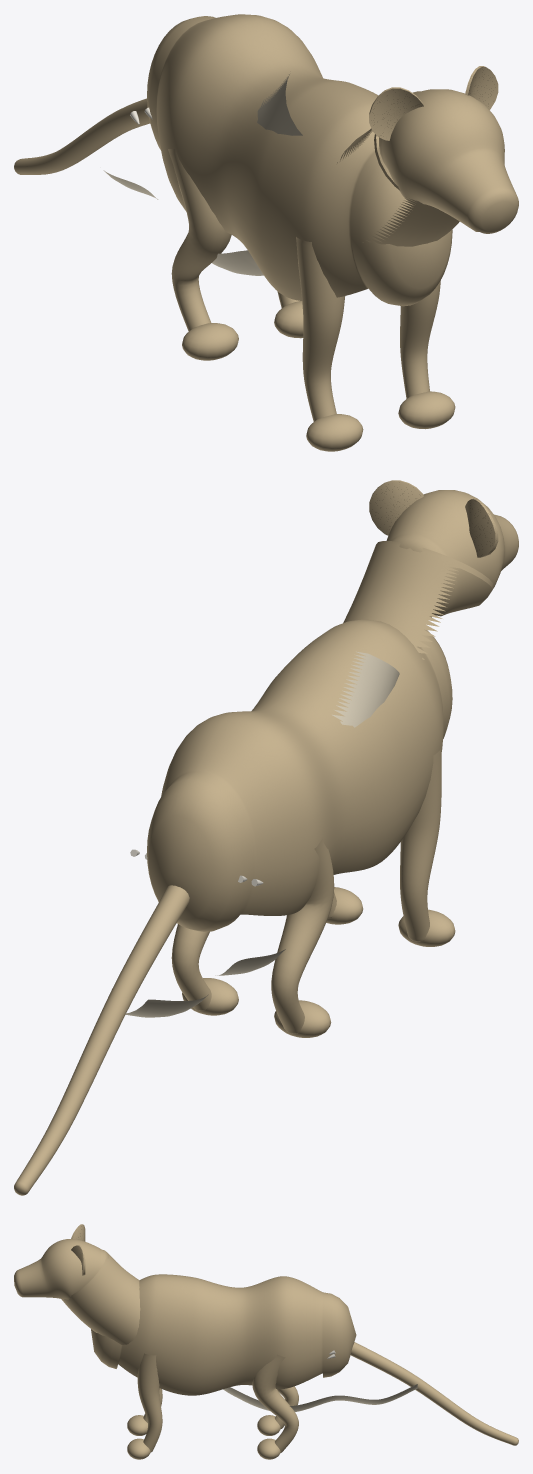
The model's file is other-african-lioness.glb.
3 renders of one model, top to bottom at view 1: azimuth 30°, elevation 25°; view 2: azimuth 150°, elevation 25°; view 3: azimuth 270°, elevation 25°, orthographic. The views are drawn at different scales.
Parts seen in each view (by area): view 1: african-lioness; view 2: african-lioness; view 3: african-lioness.
Boxes of the visible parts, box(x1,y1,x2,y2) form: african-lioness: box(14, 14, 518, 451); african-lioness: box(14, 480, 518, 1195); african-lioness: box(14, 1224, 518, 1459).
Size of the model in its own units: 17001 by 43879 by 95718.
6 materials, 3 textured.
